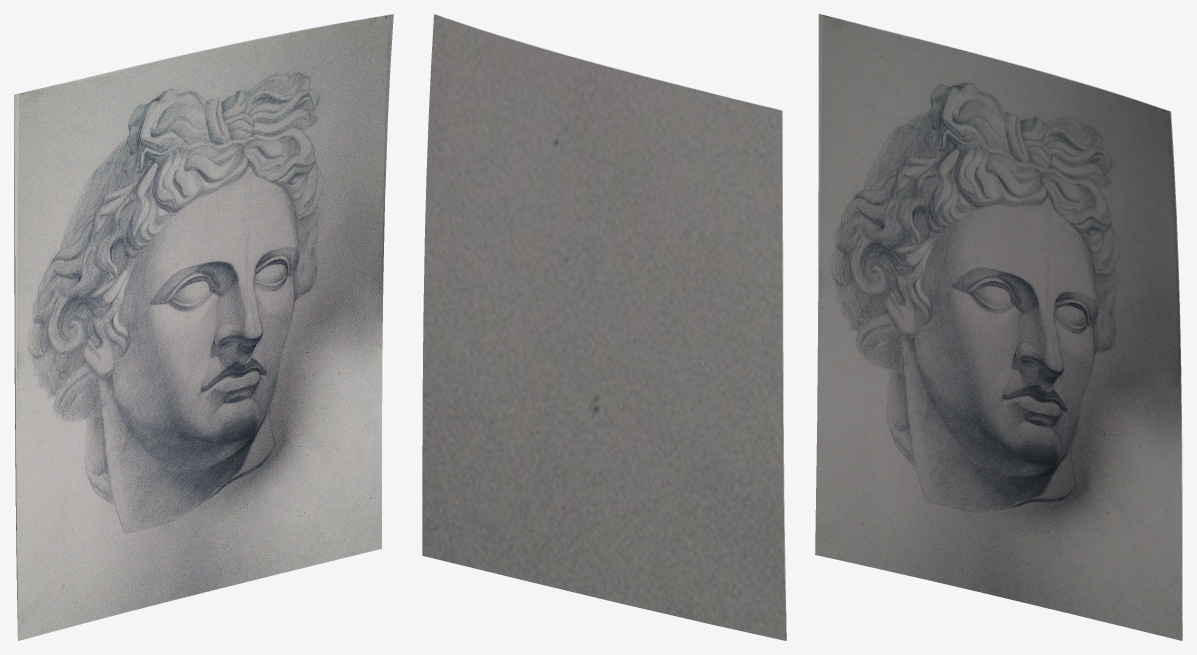
The model's file is Picture.FBX.
The picture shows the model from 3 angles, left to right: view 1: azimuth 30°, elevation 25°; view 2: azimuth 150°, elevation 25°; view 3: azimuth 330°, elevation 25°; orthographic projection.
Parts seen in each view (by area): view 1: picture; view 2: picture; view 3: picture.
Boxes of the visible parts, x1,y1,x2,y2 form: picture: (14, 14, 393, 640); picture: (422, 14, 786, 640); picture: (815, 14, 1182, 640).
Size of the model in its own units: 297 by 17.62 by 420.
1 material, 1 textured.
